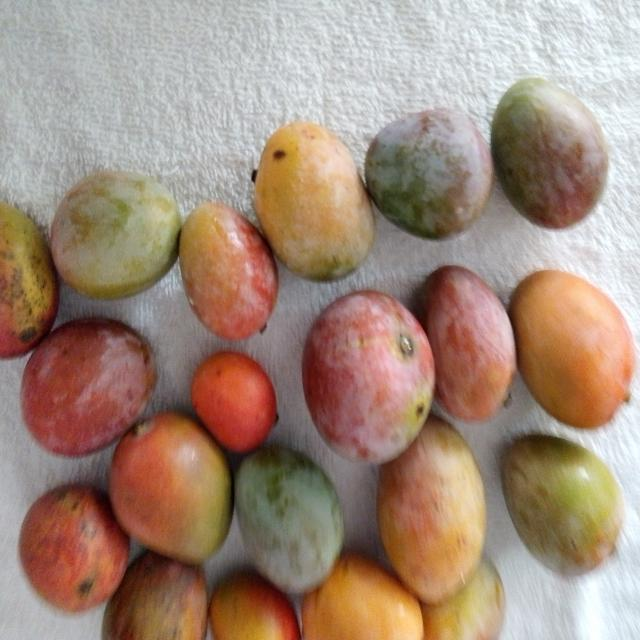mango: (300, 290, 437, 465), (248, 118, 374, 287), (113, 406, 233, 567), (502, 427, 626, 580), (515, 269, 635, 426), (50, 171, 185, 300), (417, 261, 517, 428), (178, 196, 277, 345)
